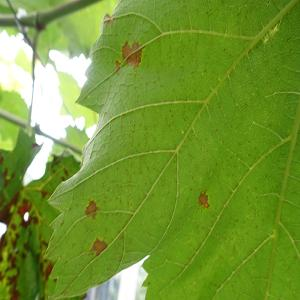Folha: (43, 0, 299, 299), (0, 114, 90, 300)
Fungo: (0, 235, 22, 300), (17, 197, 39, 226), (0, 190, 18, 225), (121, 39, 142, 67), (262, 20, 280, 46), (88, 236, 108, 256), (44, 256, 56, 282), (84, 199, 99, 219), (198, 188, 210, 209), (103, 13, 118, 26), (121, 40, 131, 59), (115, 59, 121, 72)
